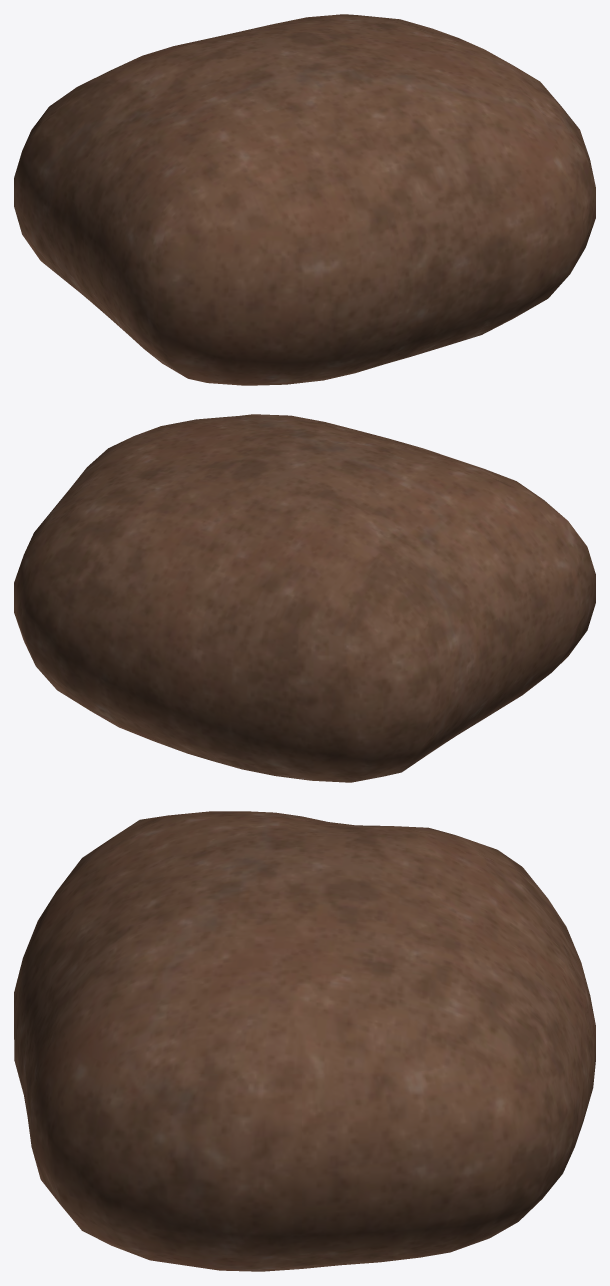
Rendered from chunky_cobble_06.glb.
3 views of the same model, one above another, from view 1: azimuth 30°, elevation 25°; view 2: azimuth 150°, elevation 25°; view 3: azimuth 270°, elevation 25° (orthographic). The views are drawn at different scales.
Visible parts, largest first — view 1: chunky_cobble_06; view 2: chunky_cobble_06; view 3: chunky_cobble_06.
Boxes of the visible parts, x1=… form: chunky_cobble_06: x1=14, y1=14, x2=595, y2=385; chunky_cobble_06: x1=14, y1=414, x2=595, y2=782; chunky_cobble_06: x1=14, y1=811, x2=595, y2=1271.
Size of the model in its own units: 0.0589 by 0.0334 by 0.0511.
1 material, 1 textured.
